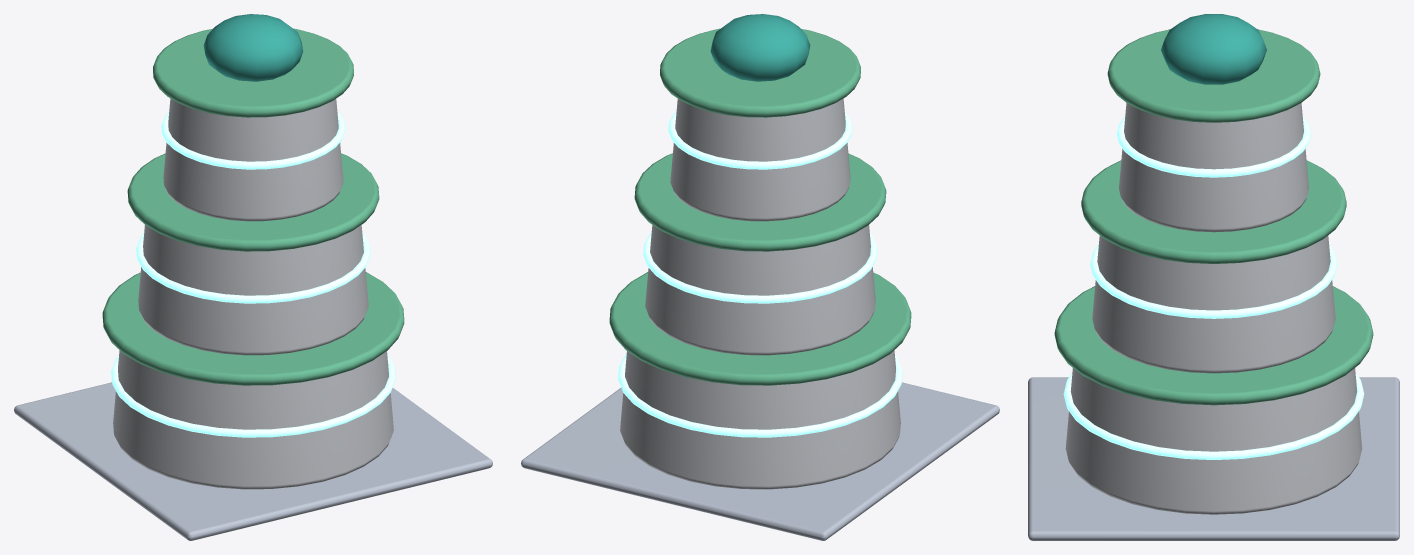
3 renders of one model, left to right at view 1: azimuth 30°, elevation 25°; view 2: azimuth 150°, elevation 25°; view 3: azimuth 270°, elevation 25°, orthographic. The views are drawn at different scales.
Parts seen in each view (by area): view 1: Cube; view 2: Cube; view 3: Cube.
Part boxes in pixels (left/top/right/bottom): Cube: left=14, top=14, right=492, bottom=540; Cube: left=521, top=14, right=999, bottom=540; Cube: left=1028, top=14, right=1399, bottom=540.
Bounding box in the file's own units: 0.7 × 0.92 × 0.7.
